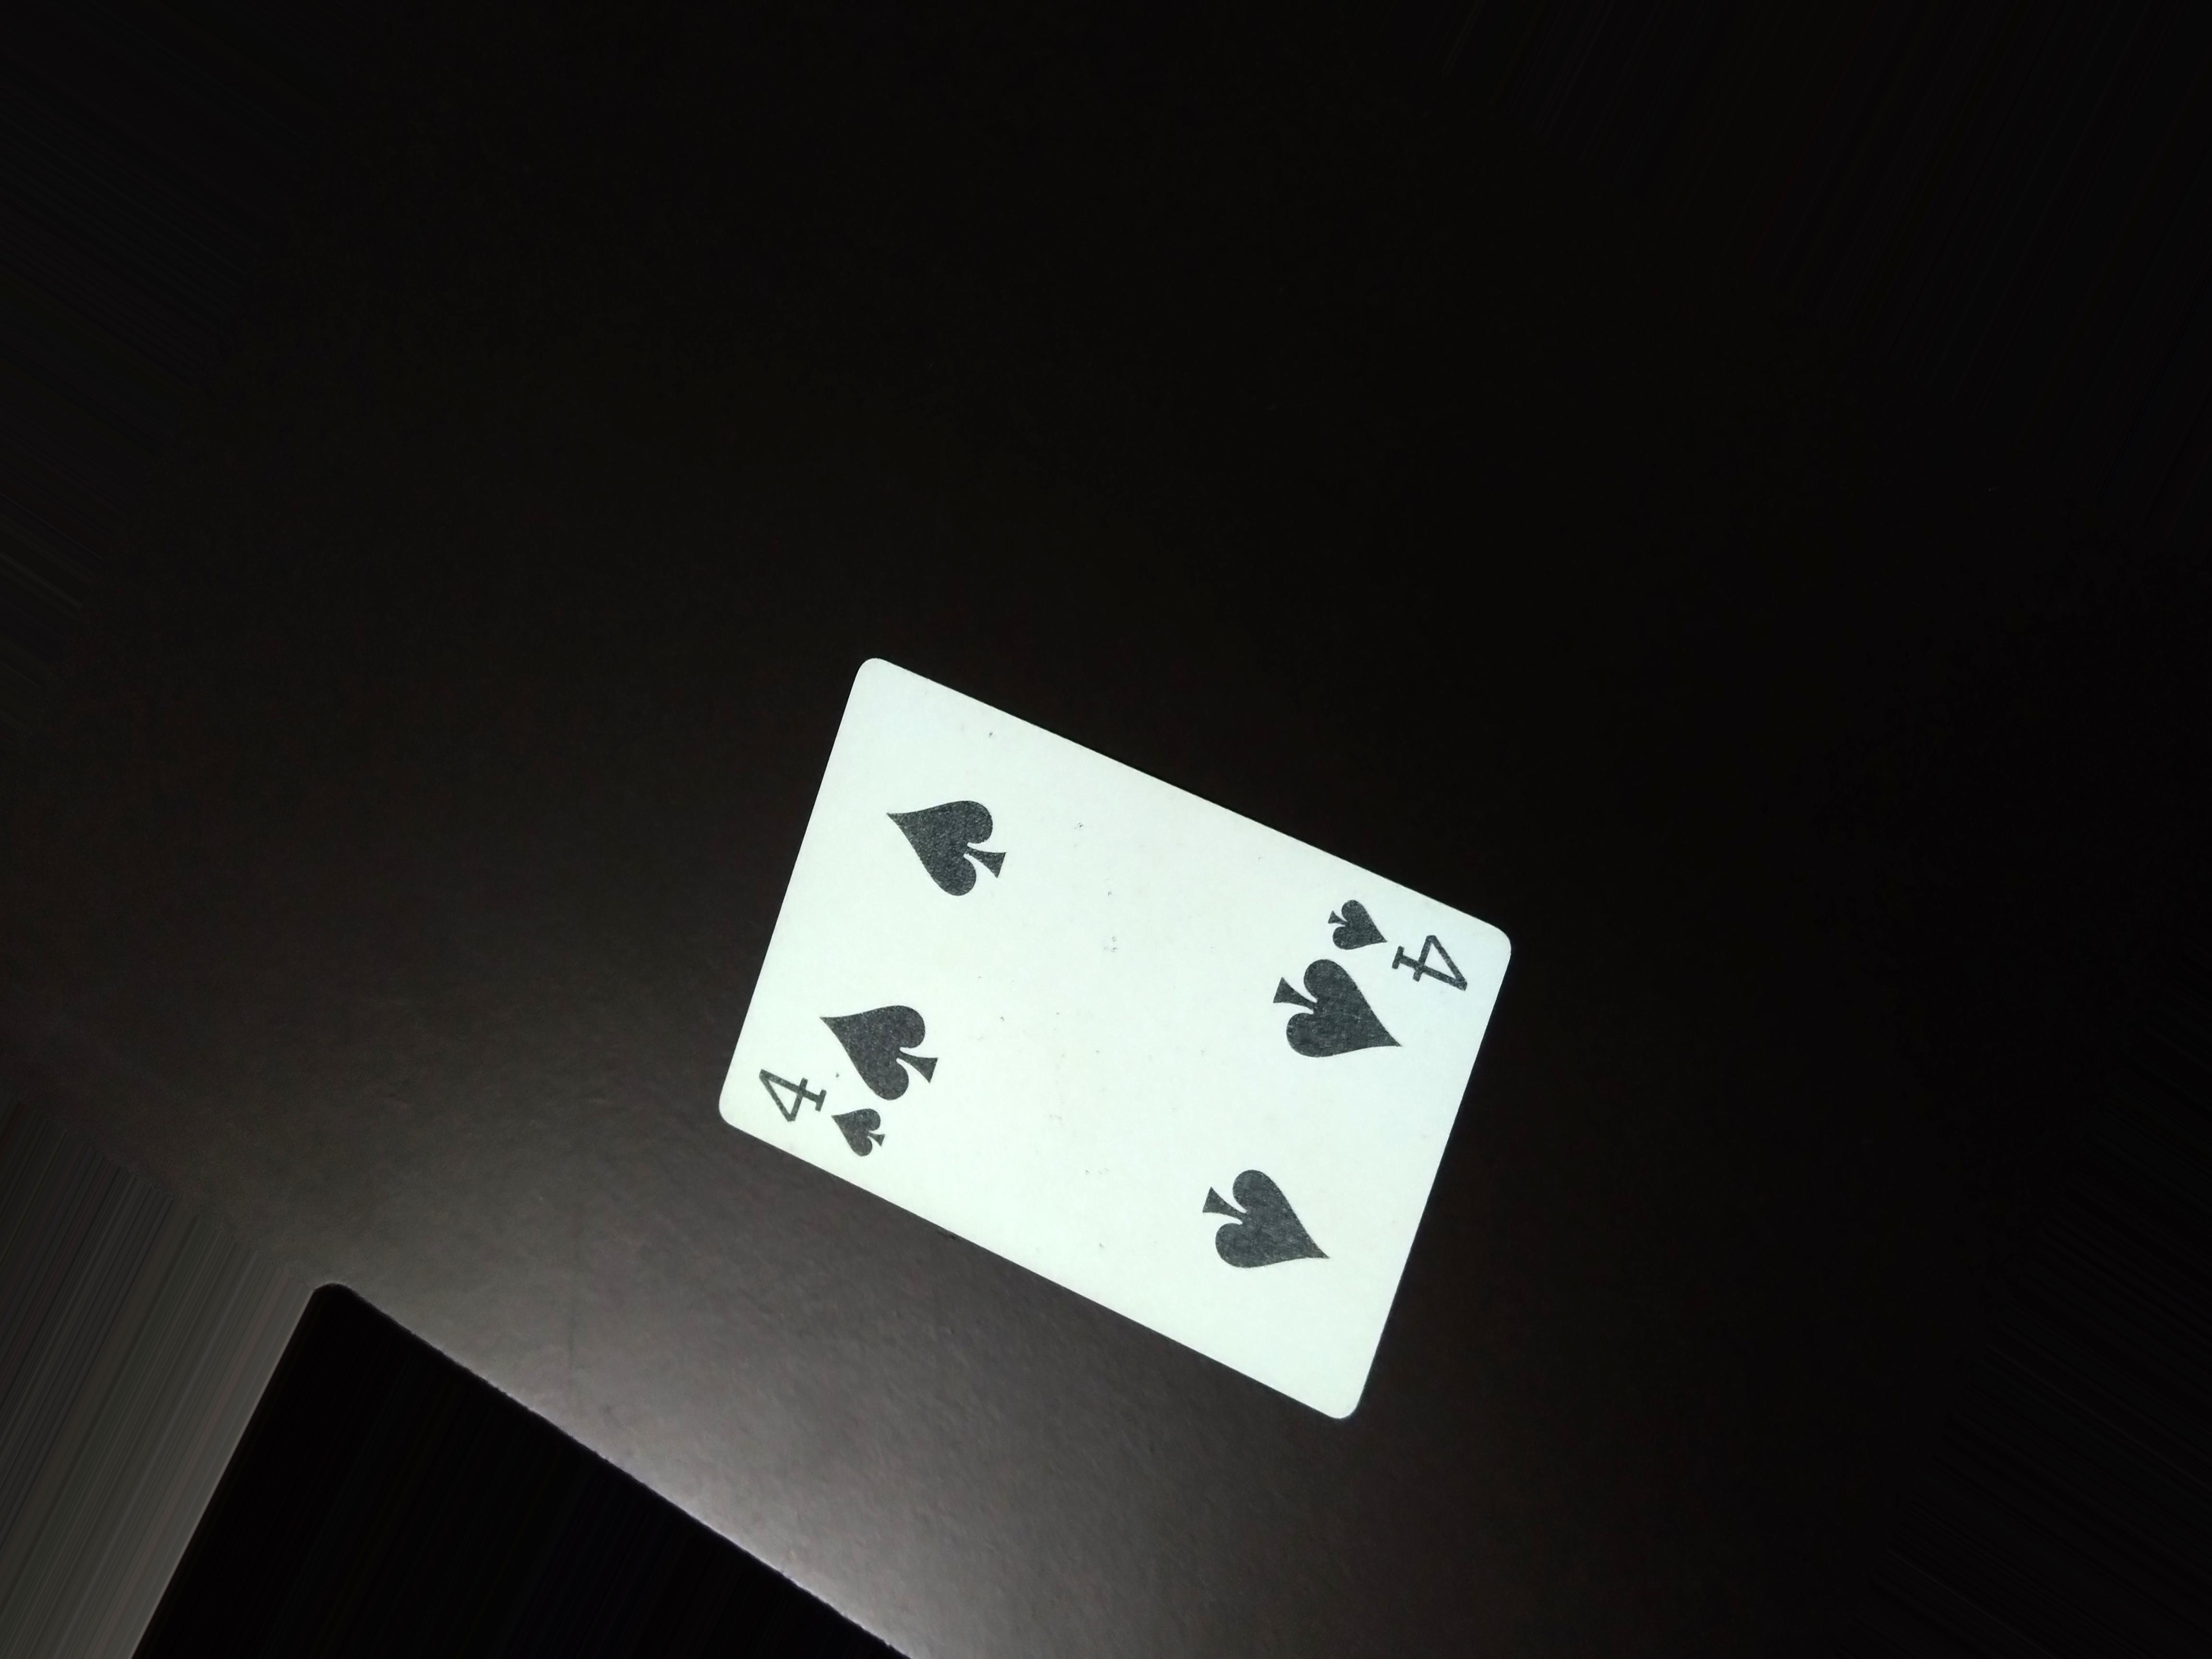4S: (740, 1063, 921, 1183)
